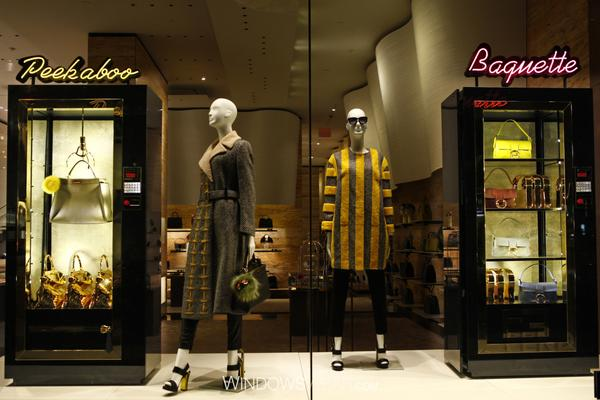person-like: (158, 93, 259, 398), (314, 103, 399, 375)
